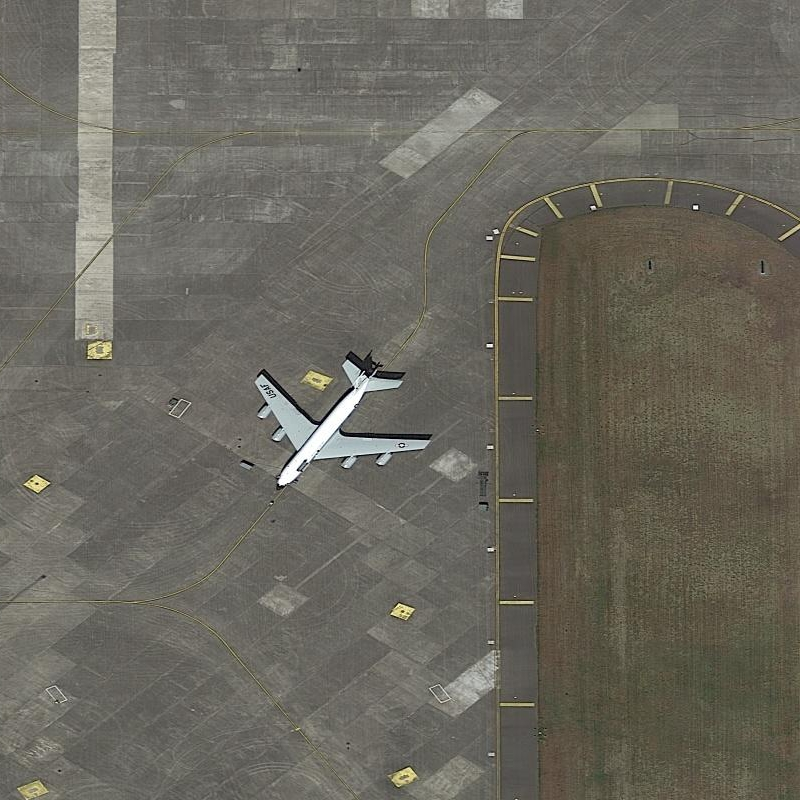A11: (244, 350, 435, 497)
